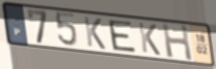5: (54, 10, 80, 49)
7: (26, 8, 50, 45)
E: (107, 19, 138, 54)
H: (160, 22, 195, 63)
K: (136, 21, 162, 57), (82, 15, 107, 52)
